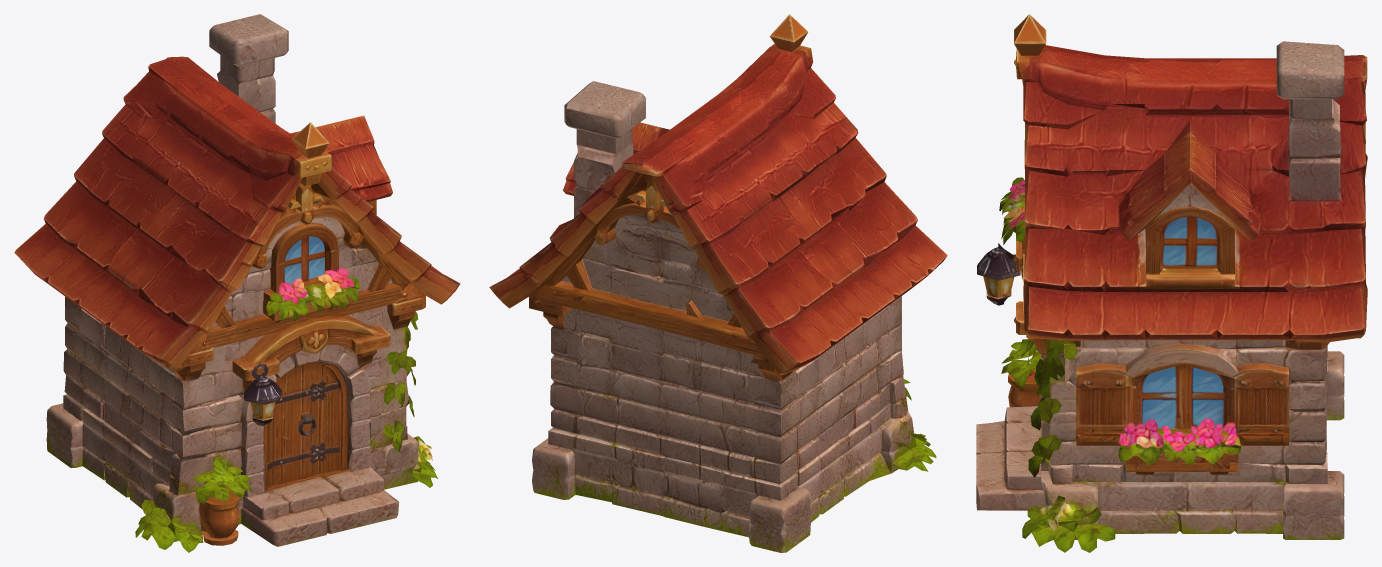
Rendered from house-red-cottage.glb.
3 renders of one model, left to right at view 1: azimuth 30°, elevation 25°; view 2: azimuth 150°, elevation 25°; view 3: azimuth 270°, elevation 25°, orthographic. The views are drawn at different scales.
Parts seen in each view (by area): view 1: house-red-cottage; view 2: house-red-cottage; view 3: house-red-cottage.
Part boxes in pixels (<box>): house-red-cottage: <box>14,14,460,552</box>; house-red-cottage: <box>489,14,947,552</box>; house-red-cottage: <box>976,14,1367,552</box>.
Bounding box in the file's own units: 11.32 × 14 × 10.79.
1 material, 1 textured.
